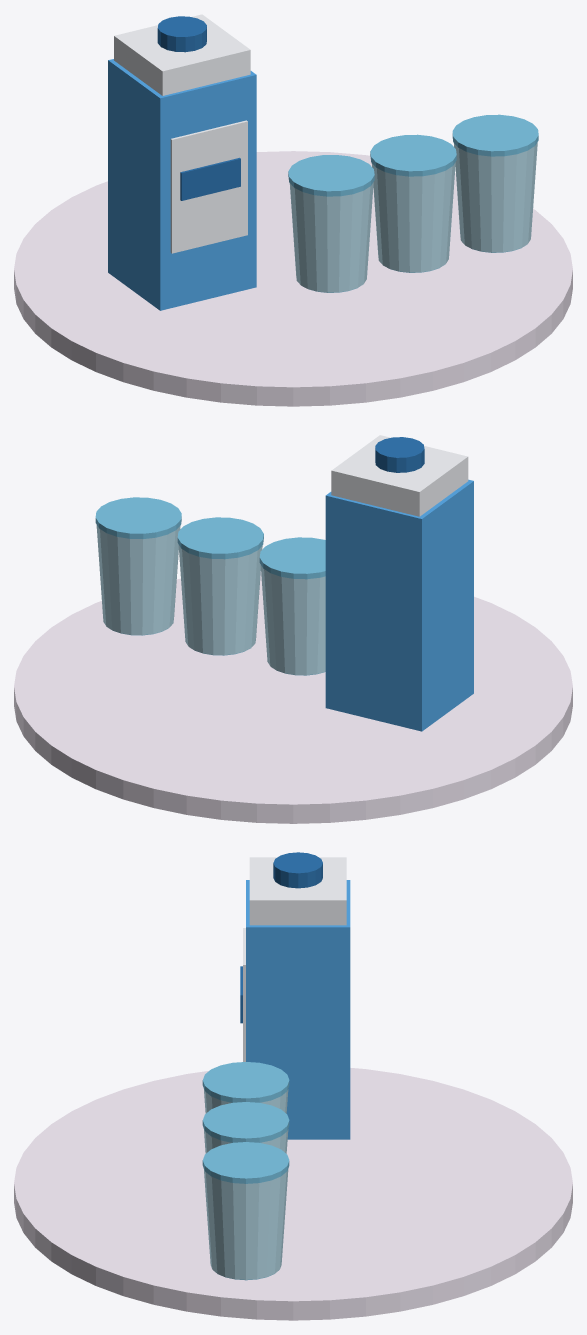
File: susu-pecahan-campuran.glb
3 renders of one model, top to bottom at view 1: azimuth 30°, elevation 25°; view 2: azimuth 150°, elevation 25°; view 3: azimuth 270°, elevation 25°, orthographic.
Visible parts, largest first — view 1: Display_Base, Carton_Body, Glass_01_Body, Glass_03_Body, Glass_02_Body, Carton_White_Front, Carton_Top, Glass_03_Rim, Glass_01_Rim, Glass_02_Rim, Carton_Label_Blue, Carton_Cap; view 2: Display_Base, Carton_Body, Glass_03_Body, Glass_02_Body, Carton_Top, Glass_01_Body, Glass_02_Rim, Glass_03_Rim, Glass_01_Rim, Carton_Cap; view 3: Display_Base, Carton_Body, Glass_03_Body, Carton_Top, Glass_03_Rim, Glass_01_Rim, Glass_02_Rim, Carton_Cap.
Part boxes in pixels (box(x1,y1,x2,y2)): Display_Base: box(14, 151, 572, 406); Carton_Body: box(108, 59, 256, 310); Glass_01_Body: box(289, 182, 373, 292); Glass_03_Body: box(454, 142, 537, 252); Glass_02_Body: box(371, 162, 455, 272); Carton_White_Front: box(170, 120, 247, 253); Carton_Top: box(114, 14, 250, 95); Glass_03_Rim: box(452, 114, 538, 156); Glass_01_Rim: box(288, 155, 374, 196); Glass_02_Rim: box(370, 134, 456, 176); Carton_Label_Blue: box(180, 157, 240, 200); Carton_Cap: box(157, 16, 206, 52); Display_Base: box(14, 571, 572, 823); Carton_Body: box(325, 479, 473, 731); Glass_03_Body: box(96, 525, 180, 635); Glass_02_Body: box(178, 545, 262, 655); Carton_Top: box(331, 435, 468, 516); Glass_01_Body: box(260, 565, 325, 675); Glass_02_Rim: box(177, 517, 263, 559); Glass_03_Rim: box(95, 497, 181, 538); Glass_01_Rim: box(259, 537, 325, 579); Carton_Cap: box(375, 437, 424, 472); Display_Base: box(14, 1068, 572, 1320); Carton_Body: box(246, 880, 350, 1139); Glass_03_Body: box(203, 1168, 288, 1279); Carton_Top: box(249, 857, 346, 925); Glass_03_Rim: box(202, 1142, 289, 1183); Glass_01_Rim: box(202, 1062, 289, 1102); Glass_02_Rim: box(202, 1102, 289, 1142); Carton_Cap: box(273, 852, 322, 888).
Bounding box in the file's own units: 2.36 × 1.33 × 2.36.
